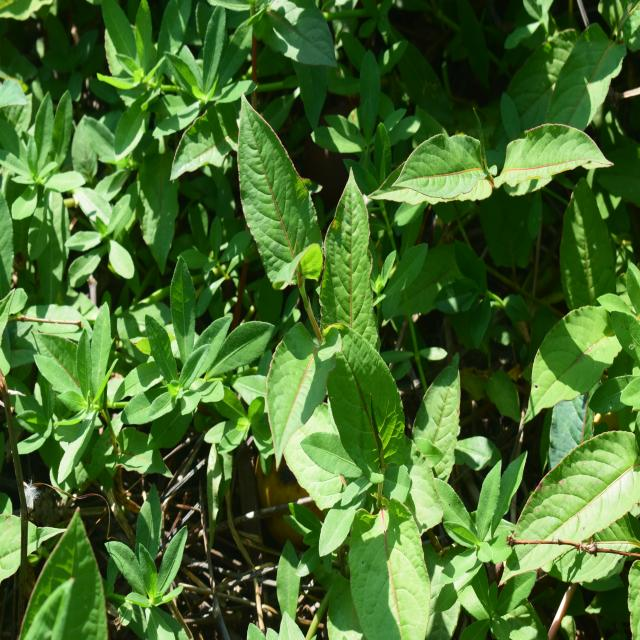Chinese_knotweed: (241, 116, 401, 458)
